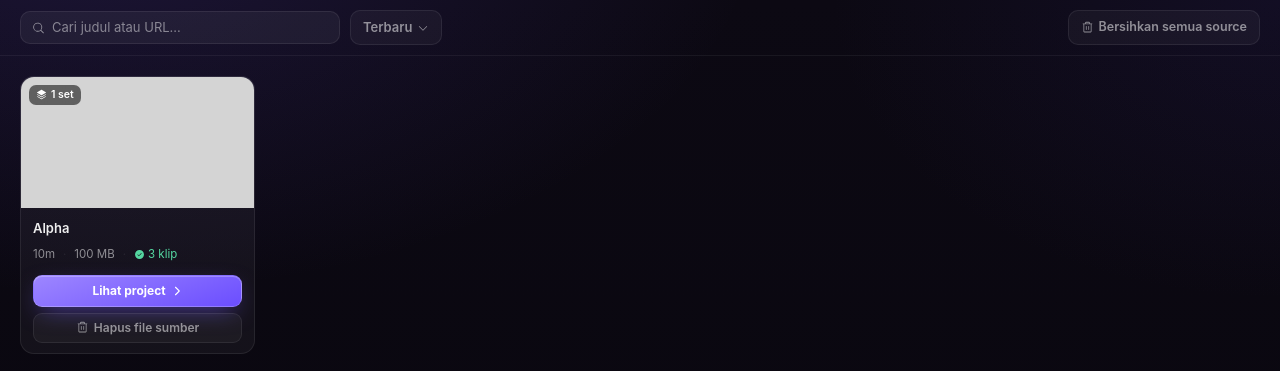
Scenario: LibraryMain › shows the empty state when nothing matches
Expected: the text "Alpha" is shown, [33,220,69,236]
Type "zzz" into the field with placeholder "Cari judul atau URL…" at (190, 28), box [52,18,328,37]
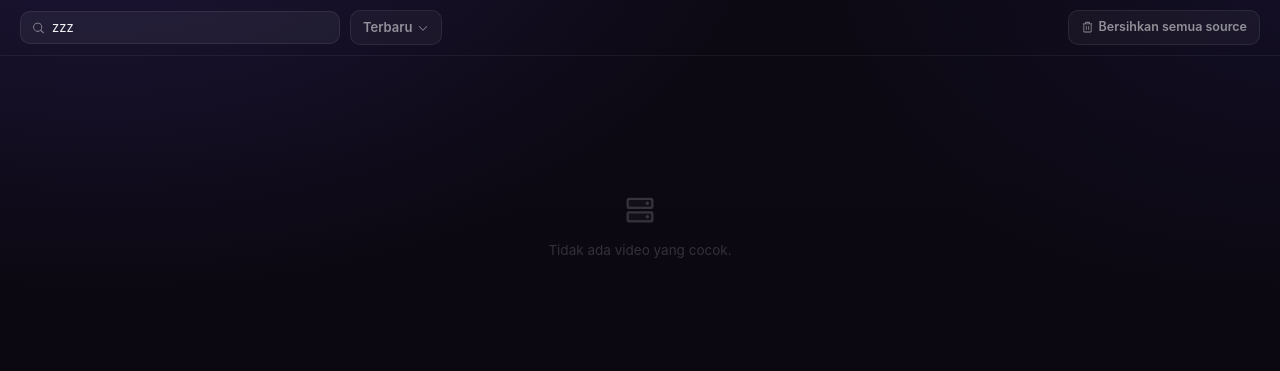
Expected: the text "Tidak ada video yang cocok." is shown, [548,240,732,260]
